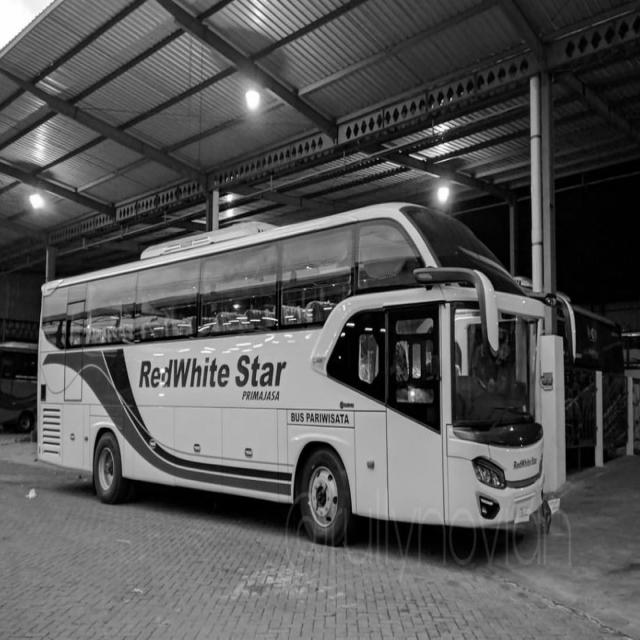Bus: (37, 202, 551, 544)
